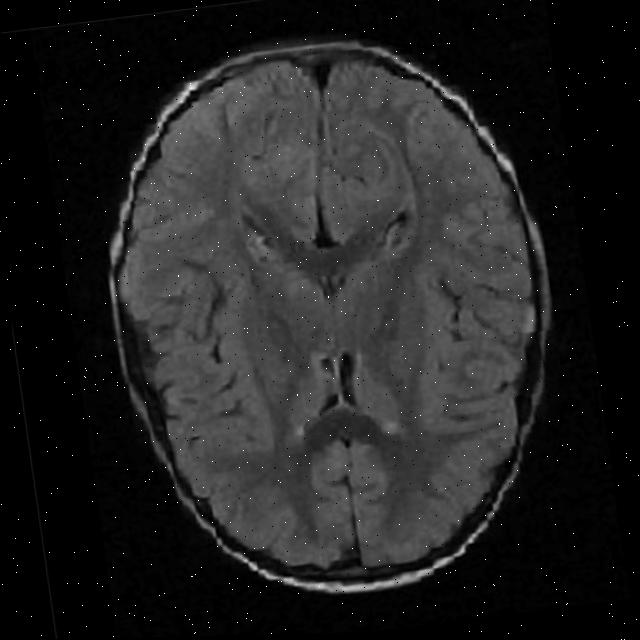NoTumor: (80, 25, 577, 600)
